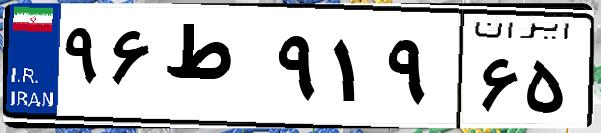1: (330, 28, 385, 110)
5: (525, 38, 570, 115)
6: (475, 38, 525, 113), (110, 28, 158, 98)
9: (270, 28, 330, 110), (385, 28, 445, 110), (57, 26, 110, 100)
ط: (158, 20, 270, 120)
